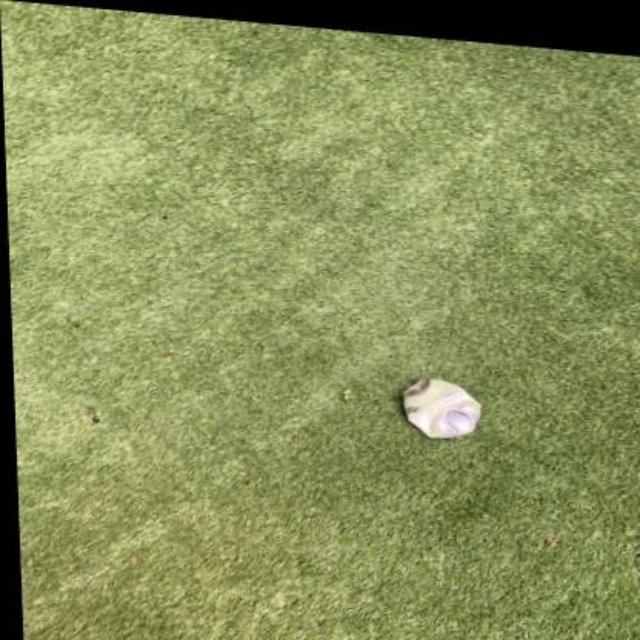trash: (403, 378, 480, 437)
